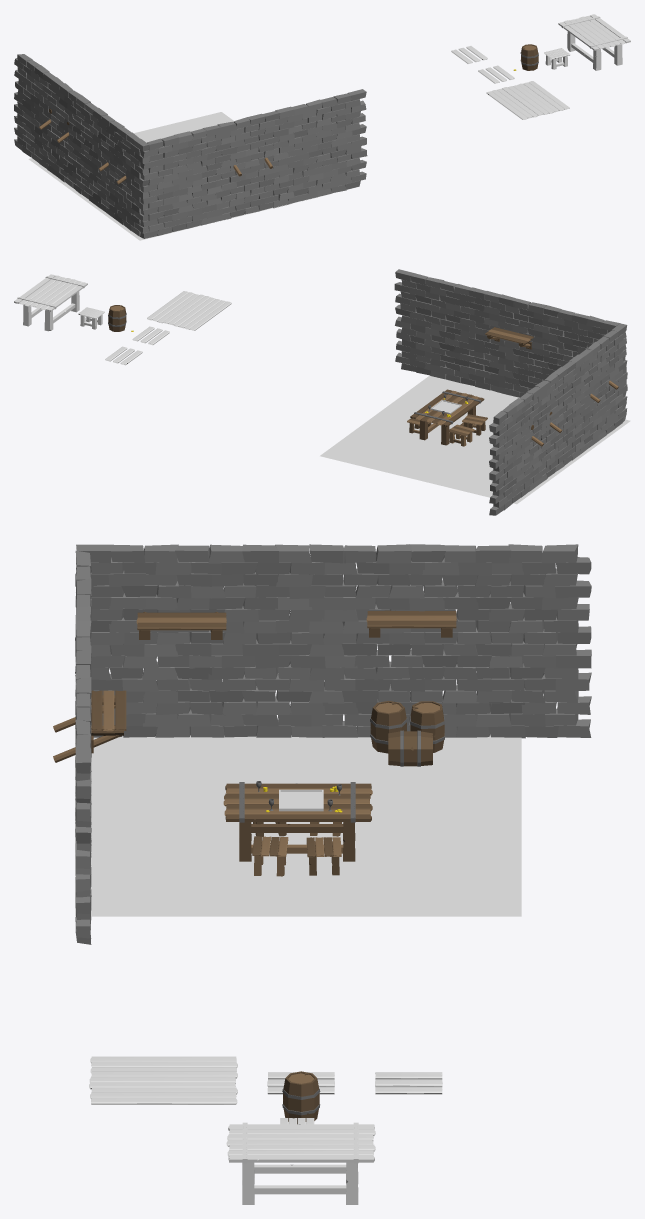
The picture shows the model from 3 angles, top to bottom: view 1: azimuth 30°, elevation 25°; view 2: azimuth 150°, elevation 25°; view 3: azimuth 270°, elevation 25°; orthographic projection. The views are drawn at different scales.
Visible parts, largest first — view 1: Cube.032, Cube.035, Plane, Cube.024, Barrel.003; view 2: Cube.032, Cube.035, Plane, Cube.024, Barrel.003, Cube.045; view 3: Cube.035, Plane, Cube.032, Barrel.003, Barrel.004, Barrel.001, Barrel.002, Cube.014, Cube.042, Cube.023, Cube.024, Cube.102 (+4 smaller).
Boxes of the visible parts, x1=… form: Cube.032: x1=140, y1=89, x2=367, y2=238; Cube.035: x1=14, y1=54, x2=149, y2=236; Plane: x1=28, y1=112, x2=332, y2=240; Cube.024: x1=567, y1=21, x2=622, y2=70; Barrel.003: x1=520, y1=44, x2=538, y2=70; Cube.032: x1=394, y1=269, x2=626, y2=421; Cube.035: x1=489, y1=323, x2=627, y2=515; Plane: x1=320, y1=375, x2=630, y2=504; Cube.024: x1=23, y1=280, x2=79, y2=331; Barrel.003: x1=108, y1=305, x2=126, y2=331; Cube.045: x1=419, y1=395, x2=475, y2=445; Cube.035: x1=75, y1=544, x2=591, y2=738; Plane: x1=75, y1=728, x2=521, y2=916; Cube.032: x1=75, y1=550, x2=91, y2=944; Barrel.003: x1=282, y1=1071, x2=320, y2=1124; Barrel.004: x1=388, y1=730, x2=432, y2=766; Barrel.001: x1=370, y1=701, x2=407, y2=753; Barrel.002: x1=409, y1=701, x2=445, y2=752; Cube.014: x1=91, y1=1097, x2=237, y2=1104; Cube.042: x1=225, y1=814, x2=371, y2=821; Cube.023: x1=228, y1=1155, x2=374, y2=1162; Cube.024: x1=242, y1=1162, x2=358, y2=1204; Cube.102: x1=279, y1=789, x2=323, y2=811.
Bounding box in the file's own units: 25.28 × 4.28 × 10.98.
